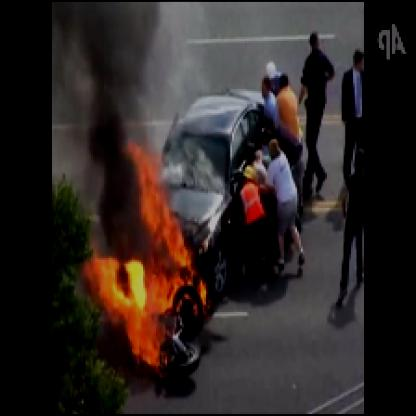Fire: (84, 139, 216, 379)
Smoke: (65, 2, 152, 249)
